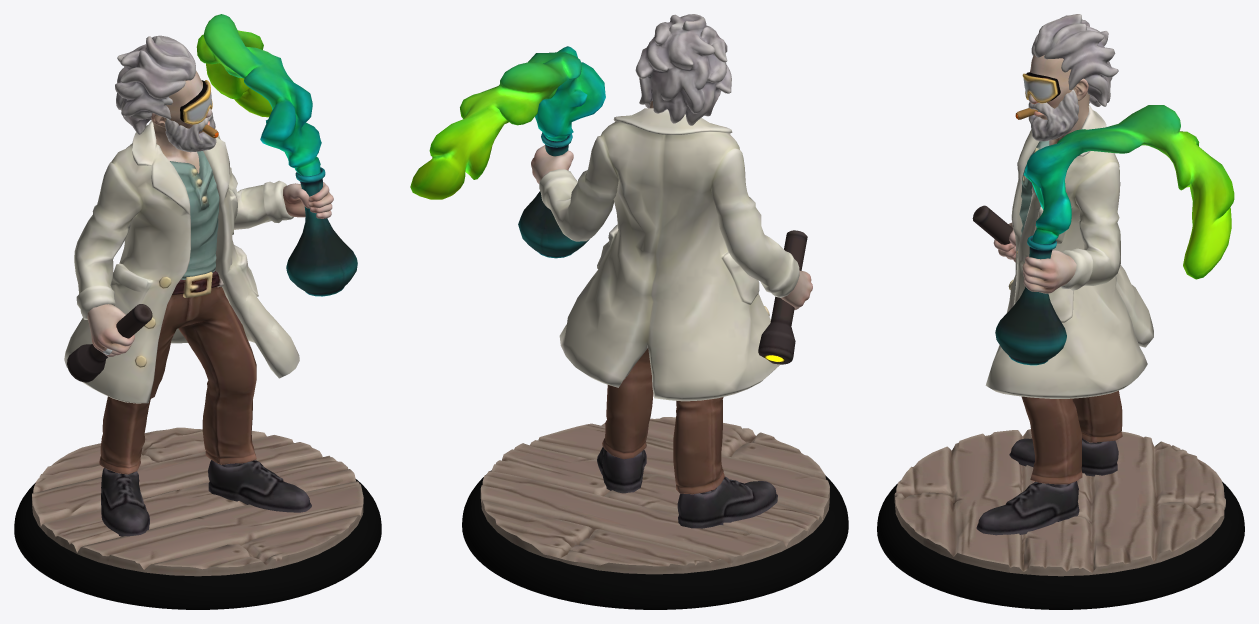
File: dan-nguyen-md.glb
3 renders of one model, left to right at view 1: azimuth 30°, elevation 25°; view 2: azimuth 150°, elevation 25°; view 3: azimuth 270°, elevation 25°, orthographic. The views are drawn at different scales.
Size of the model in its own units: 0.675 by 1 by 0.6668.
Materials: 1 (1 with a texture image).
